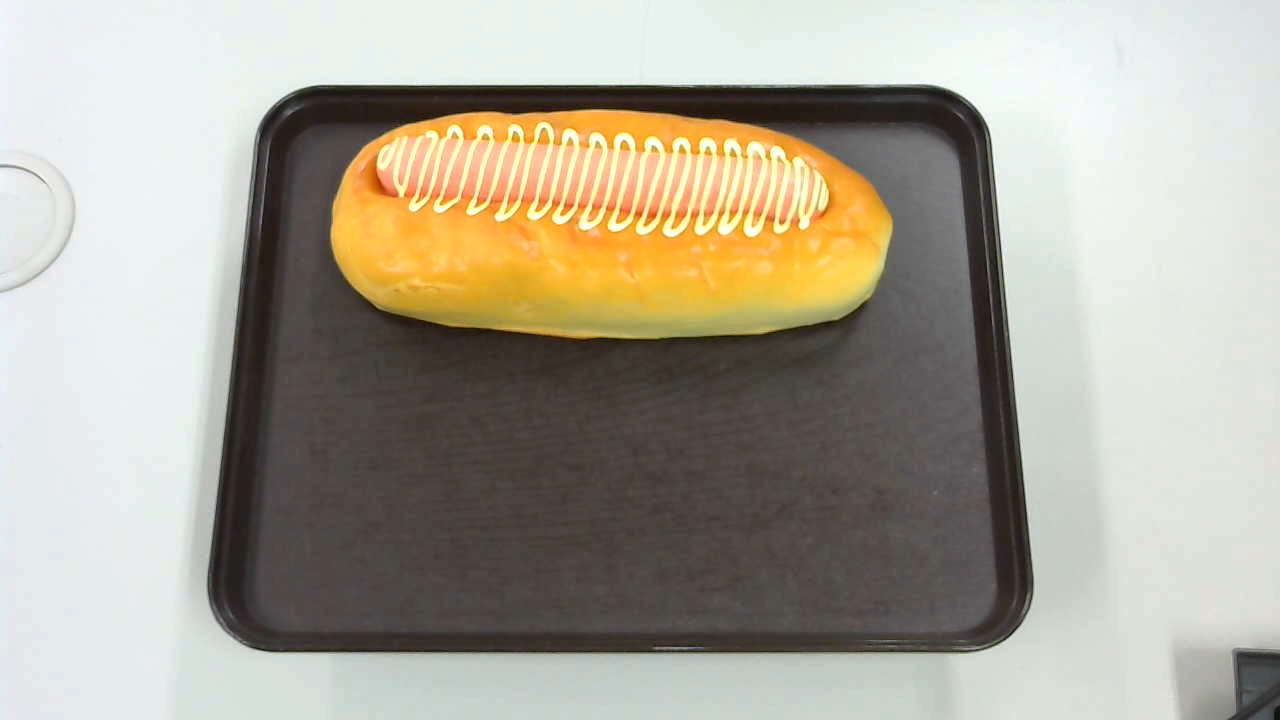hot dog: (331, 108, 894, 339)
